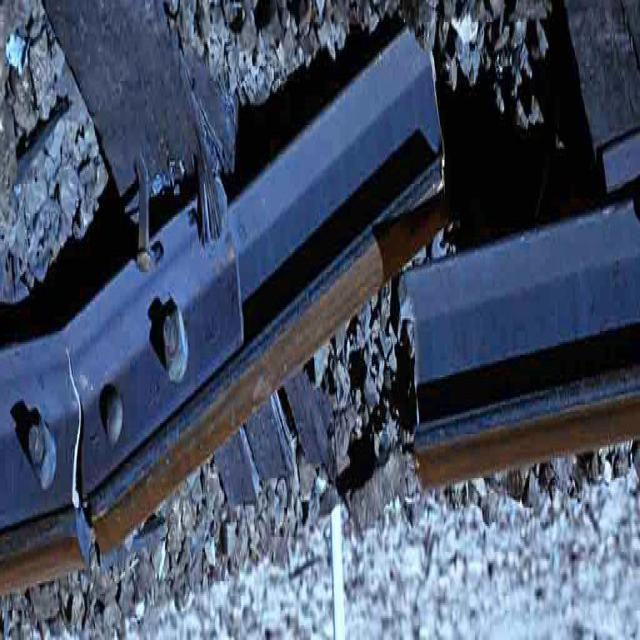broken_rail_high: (394, 44, 444, 474), (61, 337, 108, 573)
